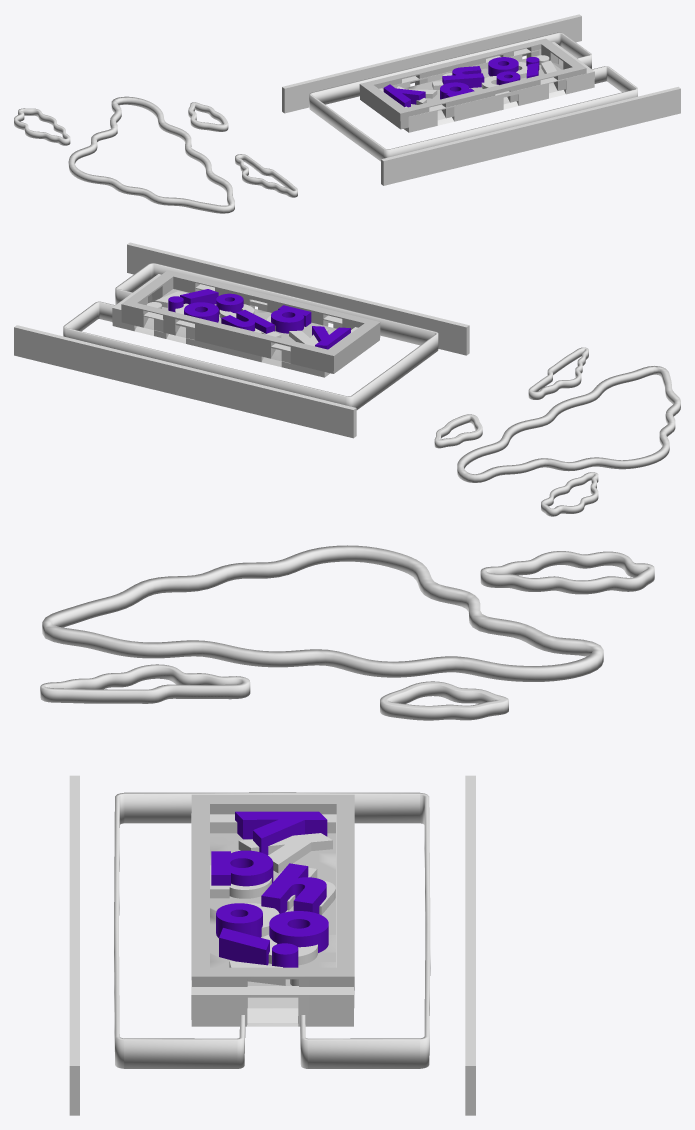
File: ynvdemo.gltf
3 renders of one model, top to bottom at view 1: azimuth 30°, elevation 25°; view 2: azimuth 150°, elevation 25°; view 3: azimuth 270°, elevation 25°, orthographic. The views are drawn at different scales.
Visible parts, largest first — view 1: Cube.001, outer_rim, ground, Cube, cloudA, Plane, letters, cloudD, cloudB, cloudC; view 2: Cube, ground, outer_rim, Cube.001, cloudA, letters, Plane, cloudD, cloudB, cloudC; view 3: cloudA, outer_rim, ground, letters, Plane, cloudD, cloudB, Cube, Cube.001, cloudC, y.
Boxes of the visible parts, x1=… form: Cube.001: x1=381, y1=86, x2=680, y2=185; outer_rim: x1=309, y1=32, x2=637, y2=161; ground: x1=359, y1=38, x2=586, y2=129; Cube: x1=282, y1=14, x2=581, y2=113; cloudA: x1=68, y1=96, x2=234, y2=213; Plane: x1=379, y1=42, x2=594, y2=132; letters: x1=383, y1=57, x2=539, y2=107; cloudD: x1=235, y1=154, x2=297, y2=197; cloudB: x1=14, y1=108, x2=70, y2=145; cloudC: x1=188, y1=102, x2=228, y2=131; Cube: x1=14, y1=325, x2=356, y2=438; ground: x1=121, y1=270, x2=380, y2=373; outer_rim: x1=63, y1=263, x2=438, y2=409; Cube.001: x1=127, y1=242, x2=469, y2=355; cloudA: x1=457, y1=366, x2=680, y2=482; letters: x1=168, y1=289, x2=350, y2=349; Plane: x1=112, y1=274, x2=358, y2=377; cloudD: x1=528, y1=347, x2=588, y2=399; cloudB: x1=541, y1=472, x2=598, y2=516; cloudC: x1=434, y1=414, x2=482, y2=448; cloudA: x1=42, y1=545, x2=603, y2=681; outer_rim: x1=114, y1=792, x2=430, y2=1068; ground: x1=191, y1=794, x2=354, y2=1008; letters: x1=211, y1=811, x2=328, y2=967; Plane: x1=191, y1=813, x2=353, y2=1026; cloudD: x1=40, y1=664, x2=250, y2=703; cloudB: x1=480, y1=551, x2=654, y2=594; Cube: x1=465, y1=775, x2=475, y2=1115; Cube.001: x1=69, y1=775, x2=79, y2=1115; cloudC: x1=380, y1=681, x2=508, y2=720; y: x1=238, y1=833, x2=332, y2=873.
Size of what is drawn, in the model's own units: 6.27 by 0.4272 by 3.1.
